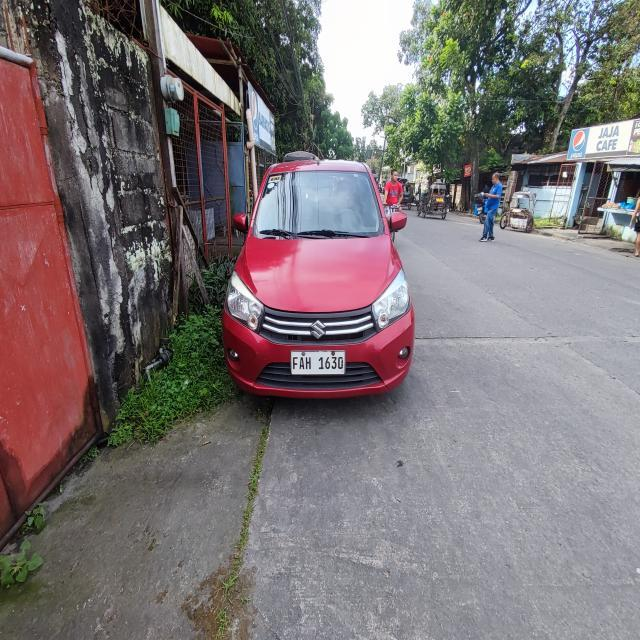LicensePlate: (290, 348, 349, 376)
